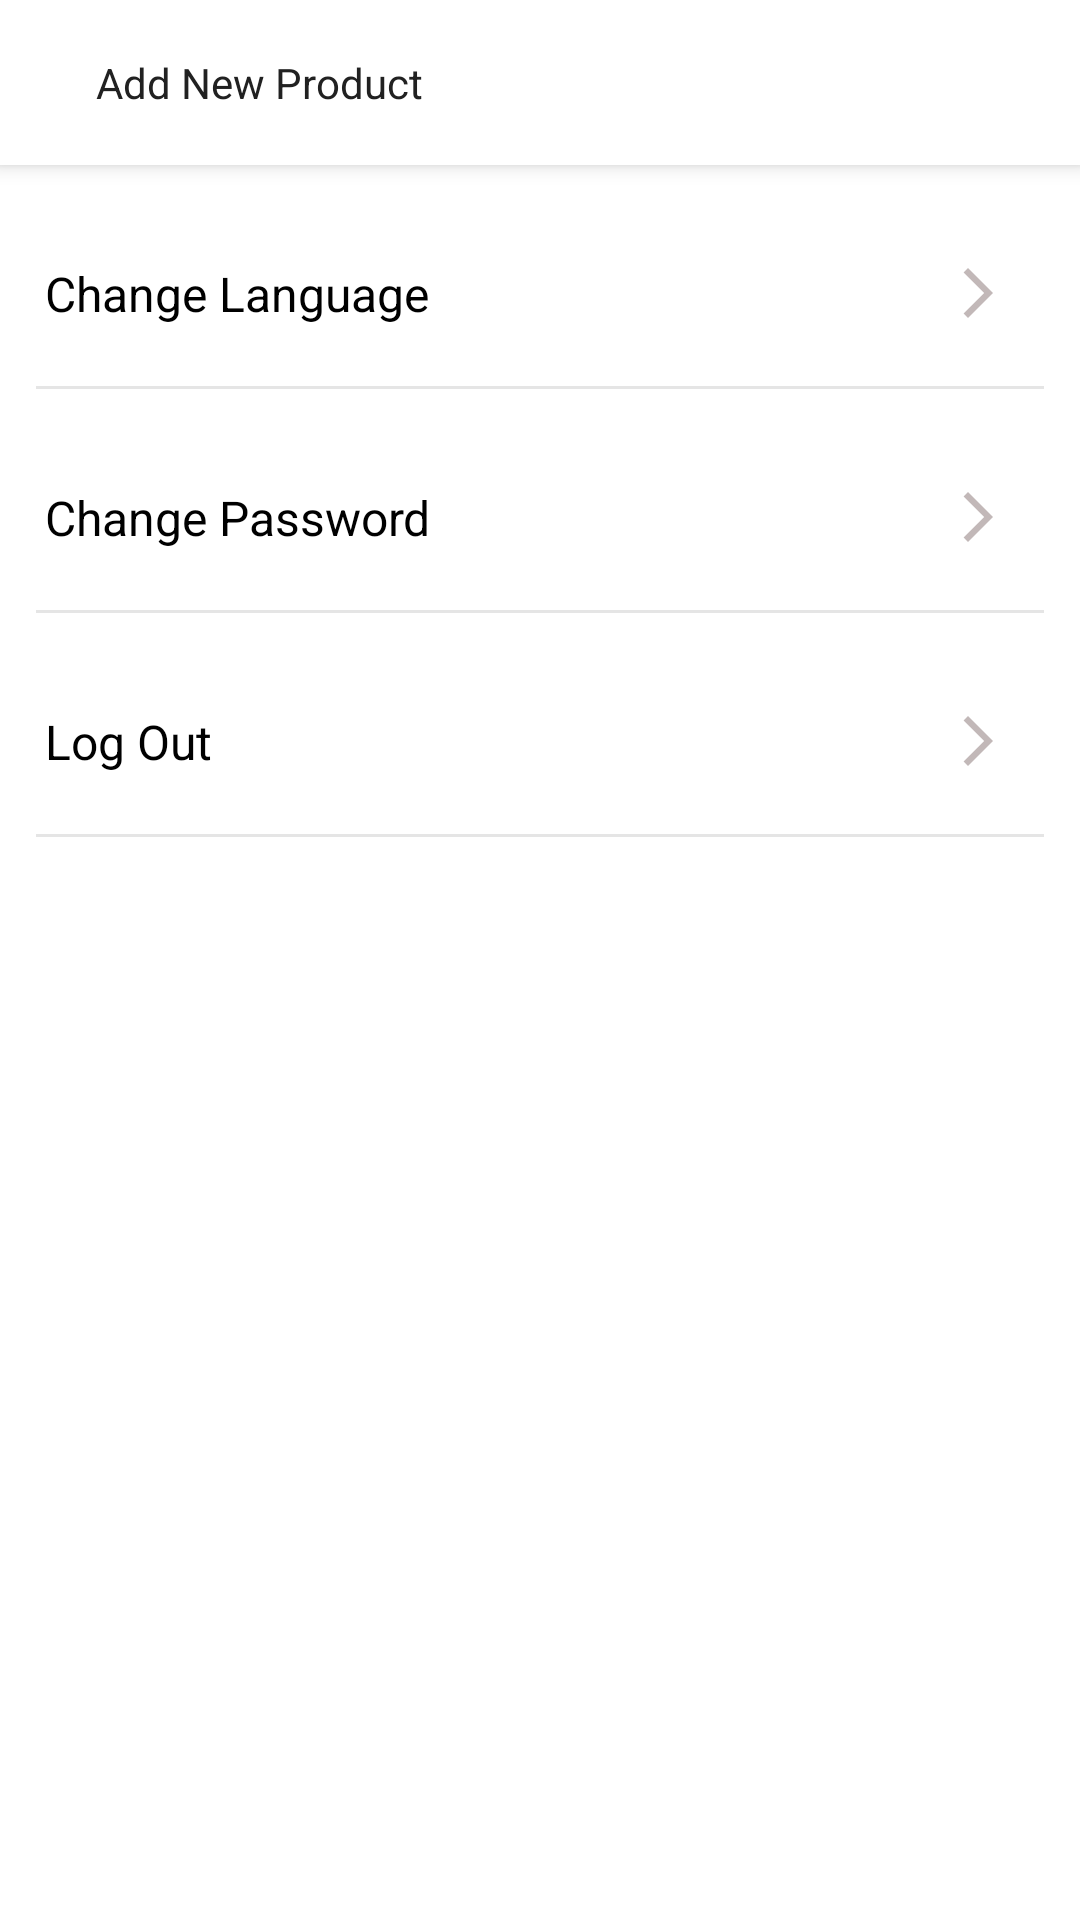

Screen size 1080×1920. Icon name, then its center in pixels as (x,y):
arrow forward: (978,293), (978,517), (978,741)
